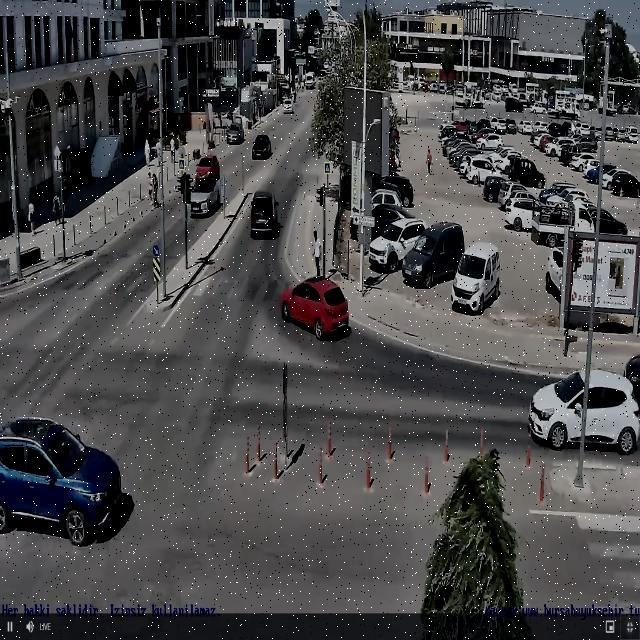Car: (1, 413, 121, 546), (525, 370, 640, 455), (282, 276, 348, 337), (251, 189, 279, 241), (190, 176, 220, 217), (196, 154, 220, 179), (252, 134, 270, 159), (224, 124, 243, 146), (282, 98, 294, 116)
